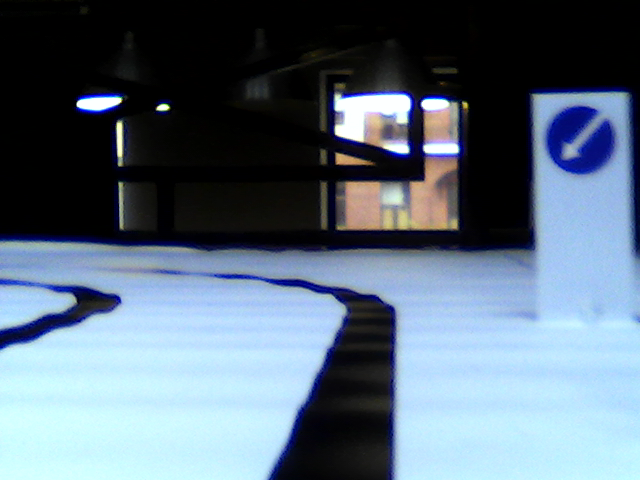prep: (548, 105, 617, 176)
